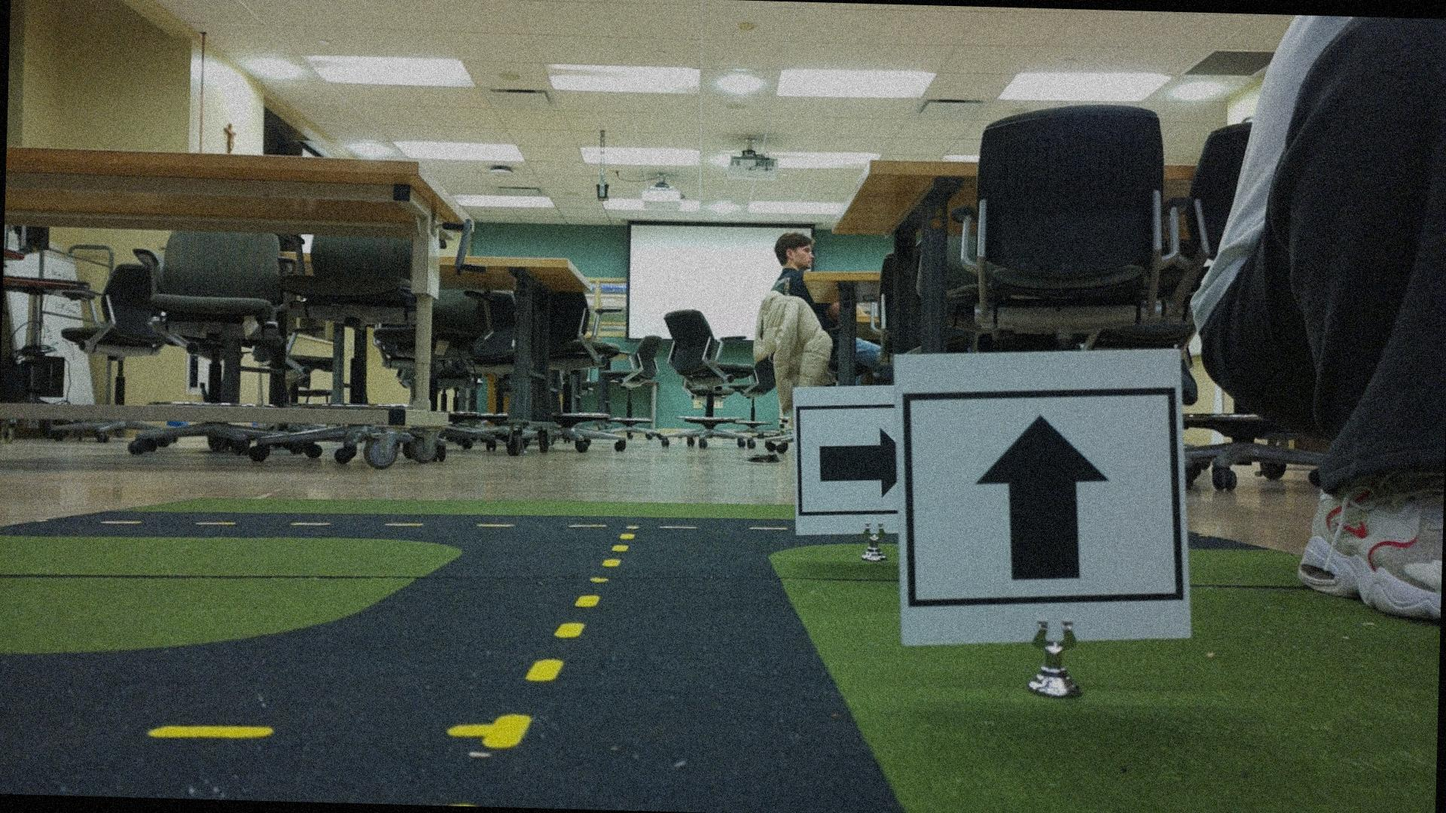gostraight: (910, 352, 1190, 644)
turnleft: (788, 410, 895, 524)
yellowline: (488, 518, 636, 752)
